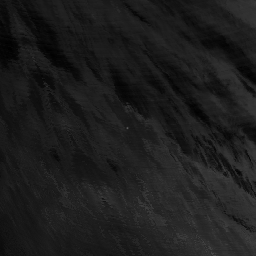Target: (124, 125, 128, 131)
